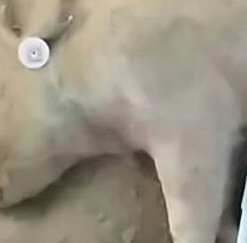text: (11, 26, 65, 79)
